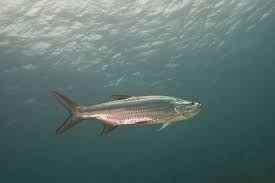Tenpounder: (51, 85, 204, 140)
